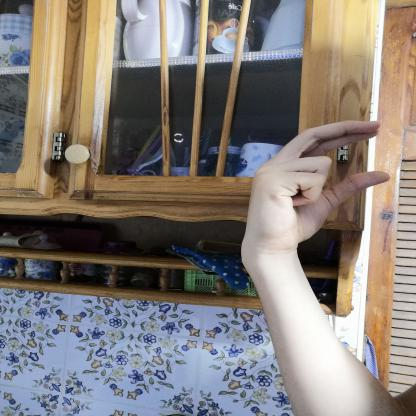DHELL: (232, 112, 400, 252)
